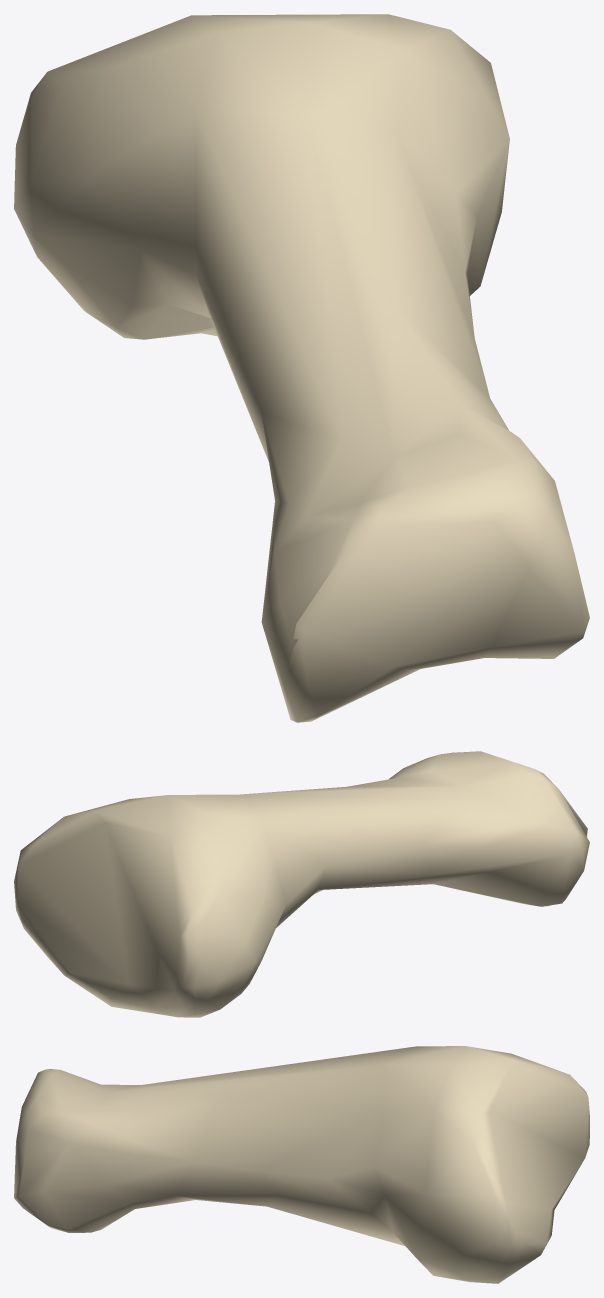
Rendered from esqueleto-proximal-phalanx-of-fifth-finger-of-foot-r.glb.
3 views of the same model, one above another, from view 1: azimuth 30°, elevation 25°; view 2: azimuth 150°, elevation 25°; view 3: azimuth 270°, elevation 25° (orthographic). The views are drawn at different scales.
Visible parts, largest first — view 1: Proximal phalanx of fifth finger of foot.r; view 2: Proximal phalanx of fifth finger of foot.r; view 3: Proximal phalanx of fifth finger of foot.r.
Boxes of the visible parts, x1,y1,x2,y2 form: Proximal phalanx of fifth finger of foot.r: [14, 14, 589, 722]; Proximal phalanx of fifth finger of foot.r: [14, 751, 589, 1017]; Proximal phalanx of fifth finger of foot.r: [14, 1046, 589, 1283].
Bounding box in the file's own units: 0.0183 × 0.0104 × 0.0267.
